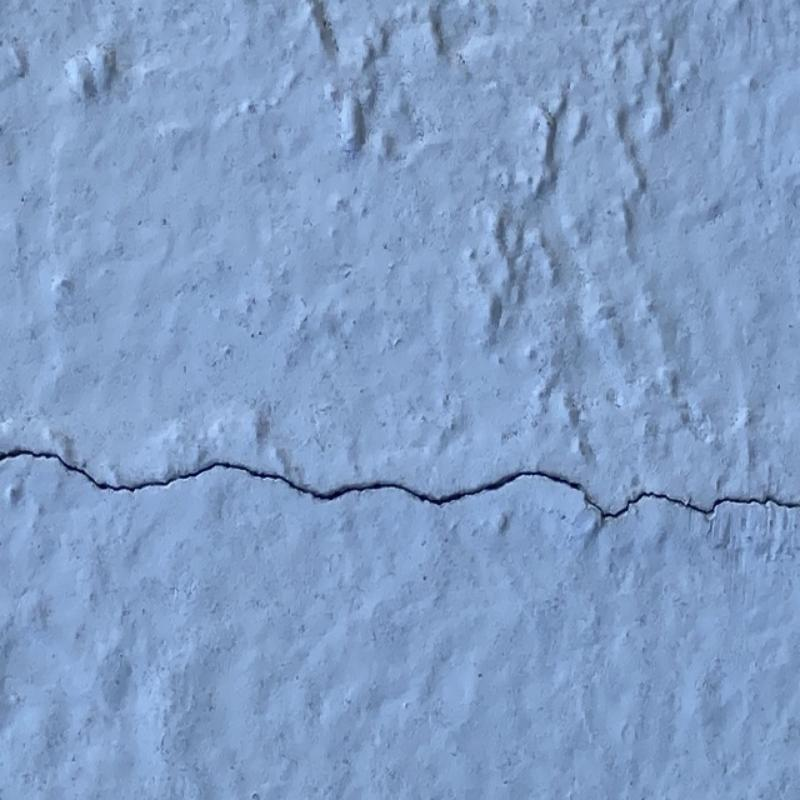pothole: (0, 442, 797, 531)
